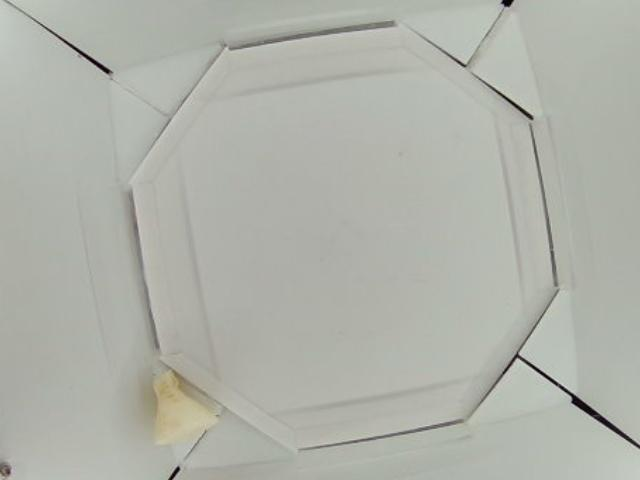Mooli: (152, 368, 221, 447)
